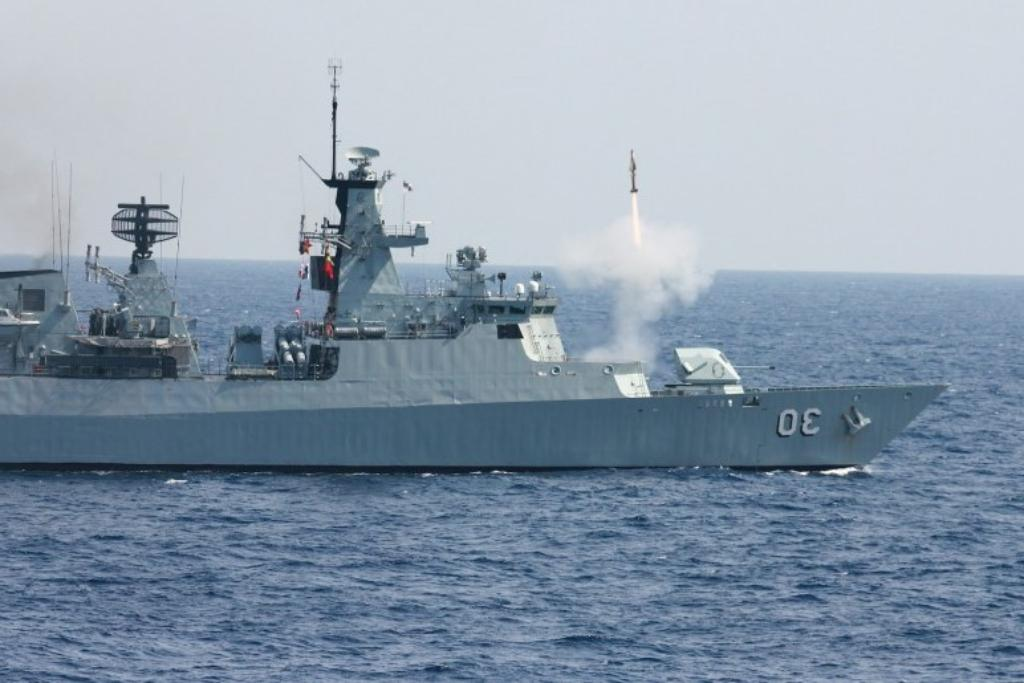Warship: (0, 63, 958, 485)
